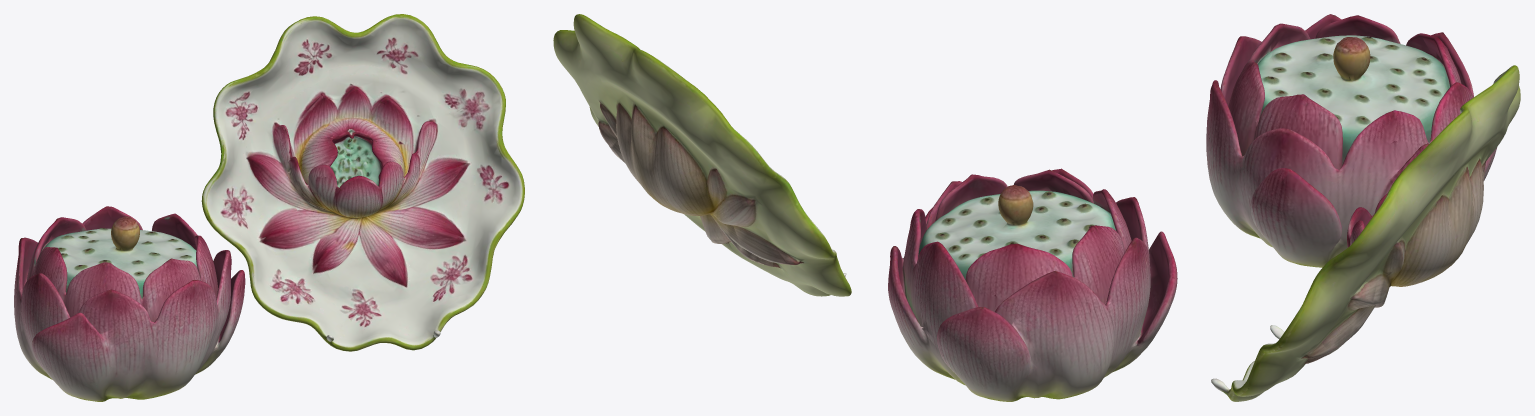
File: 粉彩莲花盖碗及底座.glb
The picture shows the model from 3 angles, left to right: view 1: azimuth 30°, elevation 25°; view 2: azimuth 150°, elevation 25°; view 3: azimuth 270°, elevation 25°; orthographic projection. The views are drawn at different scales.
Visible parts, largest first — view 1: tripo_node_c1a204ca; view 2: tripo_node_c1a204ca; view 3: tripo_node_c1a204ca.
Part boxes in pixels (x1,y1,x2,y2): tripo_node_c1a204ca: [14, 14, 524, 401]; tripo_node_c1a204ca: [553, 14, 1177, 401]; tripo_node_c1a204ca: [1206, 14, 1520, 401].
Size of the model in its own units: 97.99 by 48.52 by 41.9.
1 material, 1 textured.
